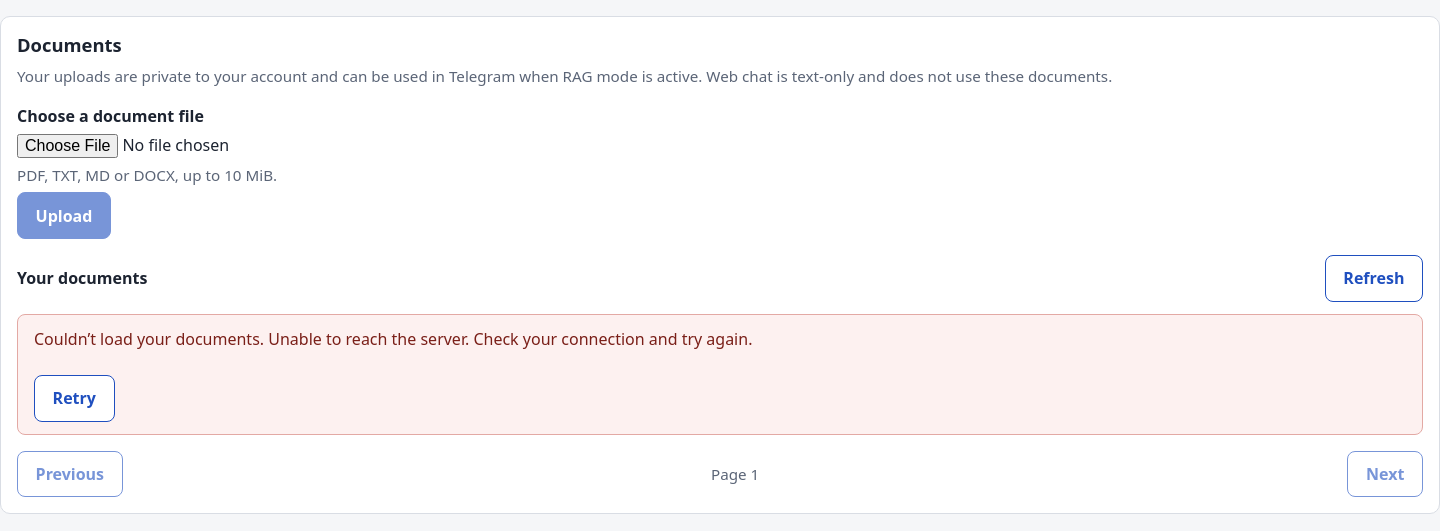
Test: load failure and Retry › after a network failure: a safe local error, an explicit Retry that can succeed, and no automatic retry
Check: the message shows "Couldn’t load your documents.", box [34, 328, 268, 350]
Check: the message shows "Unable to reach the server. Check your connection and try again.", box [268, 328, 752, 350]
Click the button "Retry" at (74, 398), box [34, 375, 114, 422]
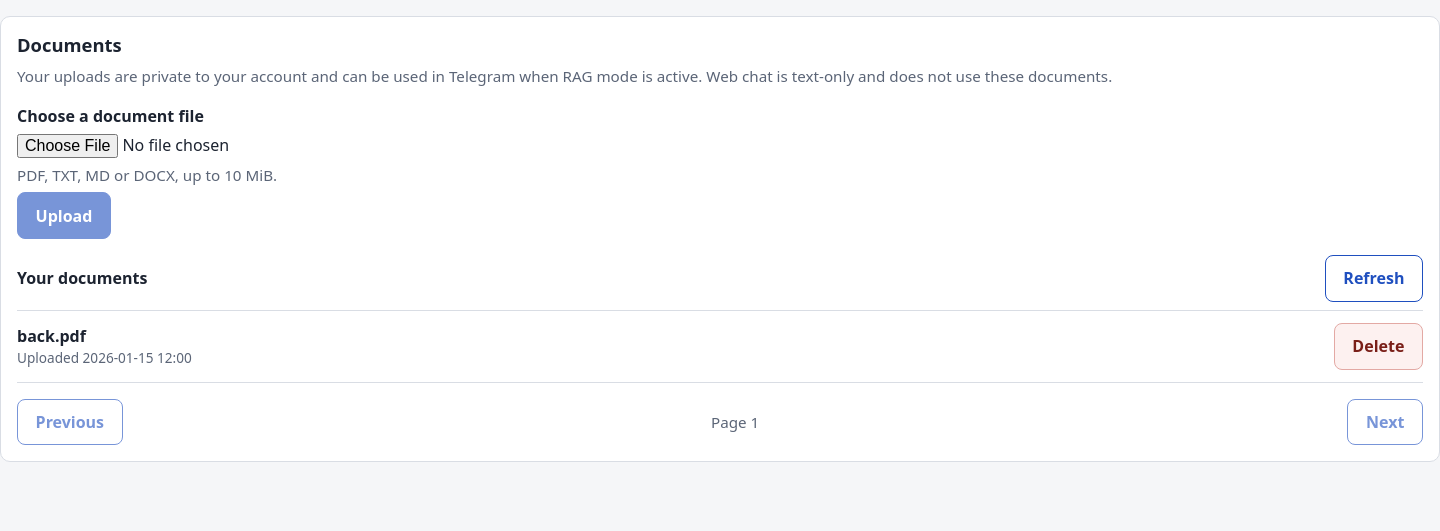
Check: the message "Couldn’t load your documents. Unable to reach the server. Check your connection" is gone
